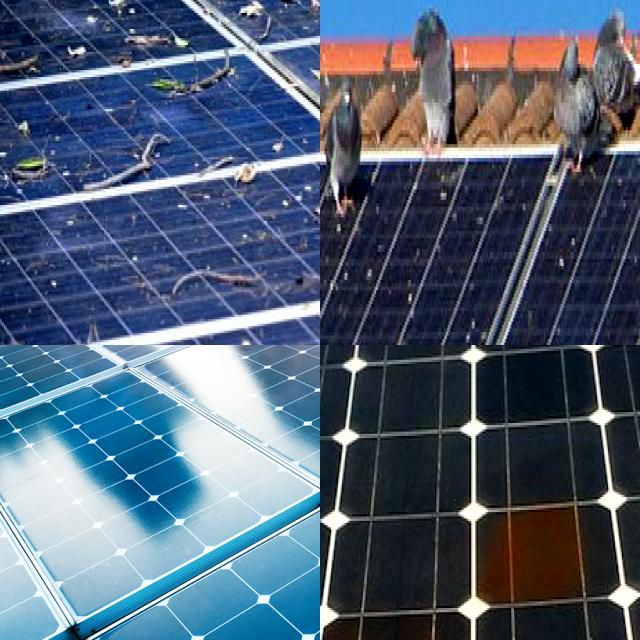bird: (466, 172, 516, 247), (332, 232, 382, 292), (428, 158, 460, 240), (554, 220, 584, 284), (404, 232, 426, 318), (459, 299, 496, 345)
crack: (0, 378, 320, 626), (55, 424, 320, 640), (120, 345, 320, 517), (25, 345, 264, 421), (0, 345, 138, 445)
shadow: (461, 492, 608, 612)
